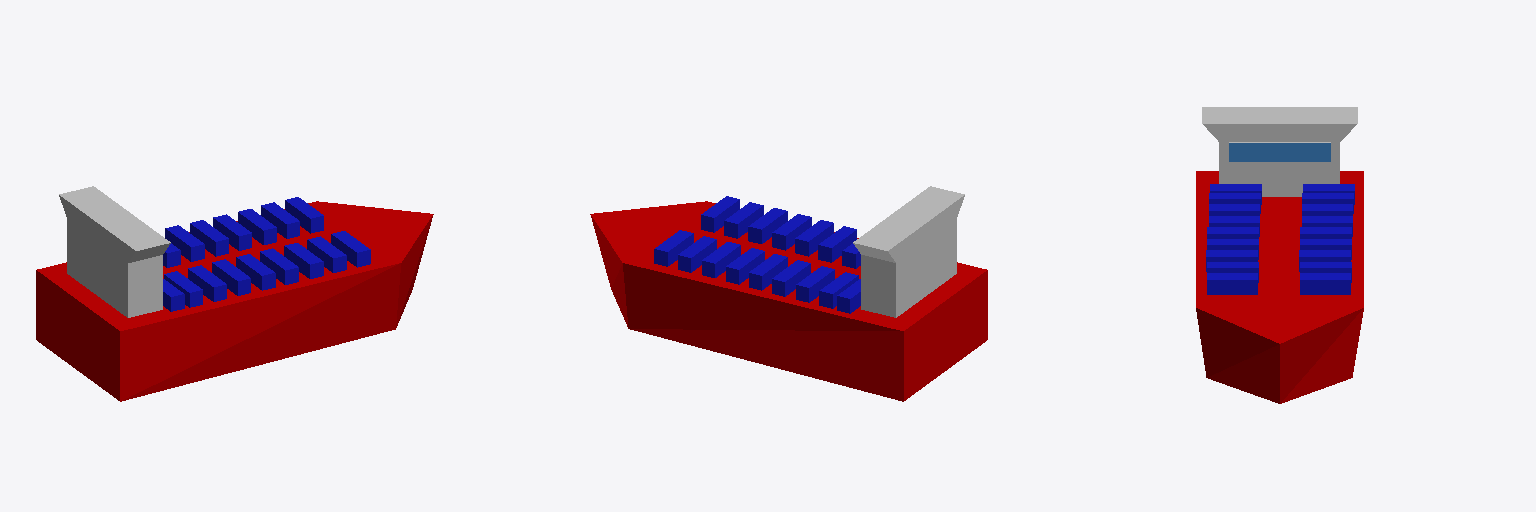
The model's file is Ship.obj.
3 views of the same model, side by side, from view 1: azimuth 30°, elevation 25°; view 2: azimuth 150°, elevation 25°; view 3: azimuth 270°, elevation 25° (orthographic).
Parts seen in each view (by area): view 1: Hull_Plane.002, Container_Cube.002, Tower_Cube.001; view 2: Hull_Plane.002, Container_Cube.002, Tower_Cube.001; view 3: Hull_Plane.002, Container_Cube.002, Tower_Cube.001, Window_Cube.004.
Part boxes in pixels (x1,y1,x2,y2): Hull_Plane.002: (36, 201, 433, 401); Container_Cube.002: (163, 197, 370, 311); Tower_Cube.001: (59, 186, 170, 317); Hull_Plane.002: (590, 201, 987, 401); Container_Cube.002: (654, 196, 860, 313); Tower_Cube.001: (853, 186, 964, 317); Hull_Plane.002: (1196, 171, 1363, 403); Container_Cube.002: (1206, 184, 1354, 294); Tower_Cube.001: (1202, 107, 1357, 196); Window_Cube.004: (1229, 143, 1330, 161).
Bounding box in the file's own units: 4.87 × 1.88 × 2.